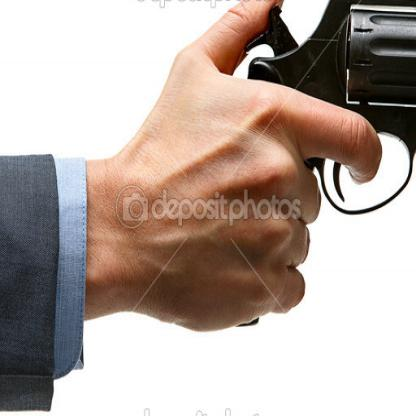gun: (228, 0, 415, 355)
